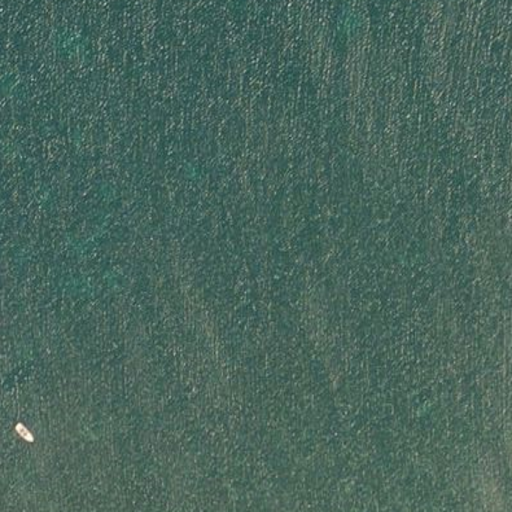ship: (11, 420, 36, 446)
